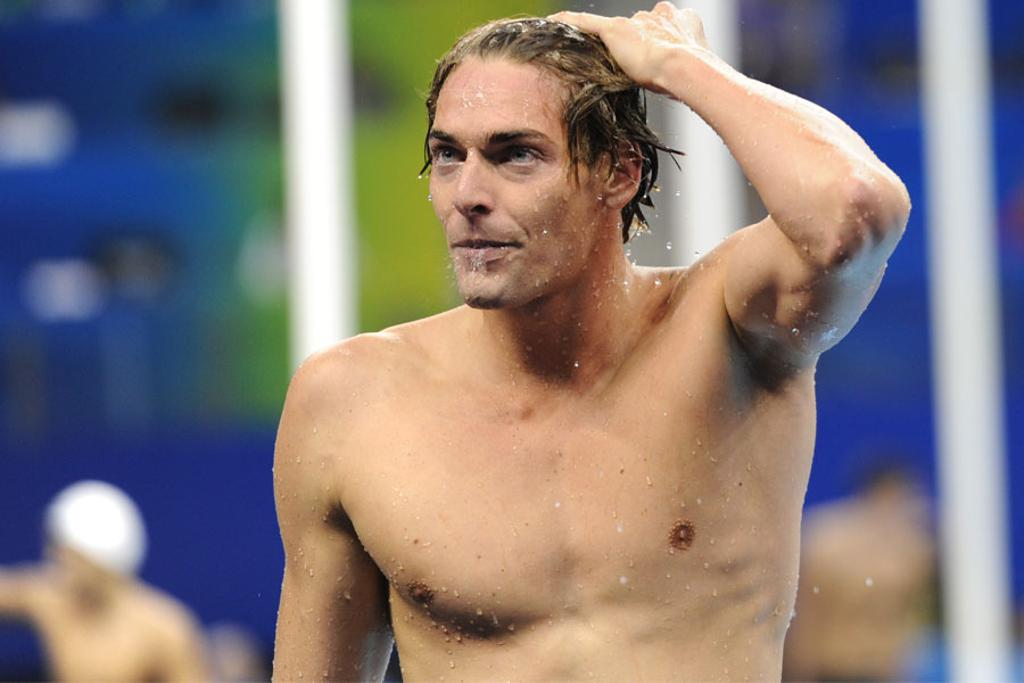face: (432, 68, 600, 304)
